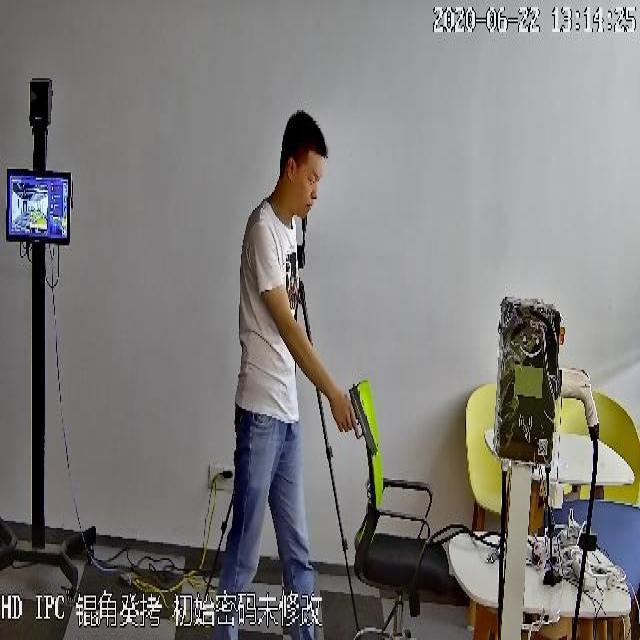pistol: (338, 382, 382, 465)
